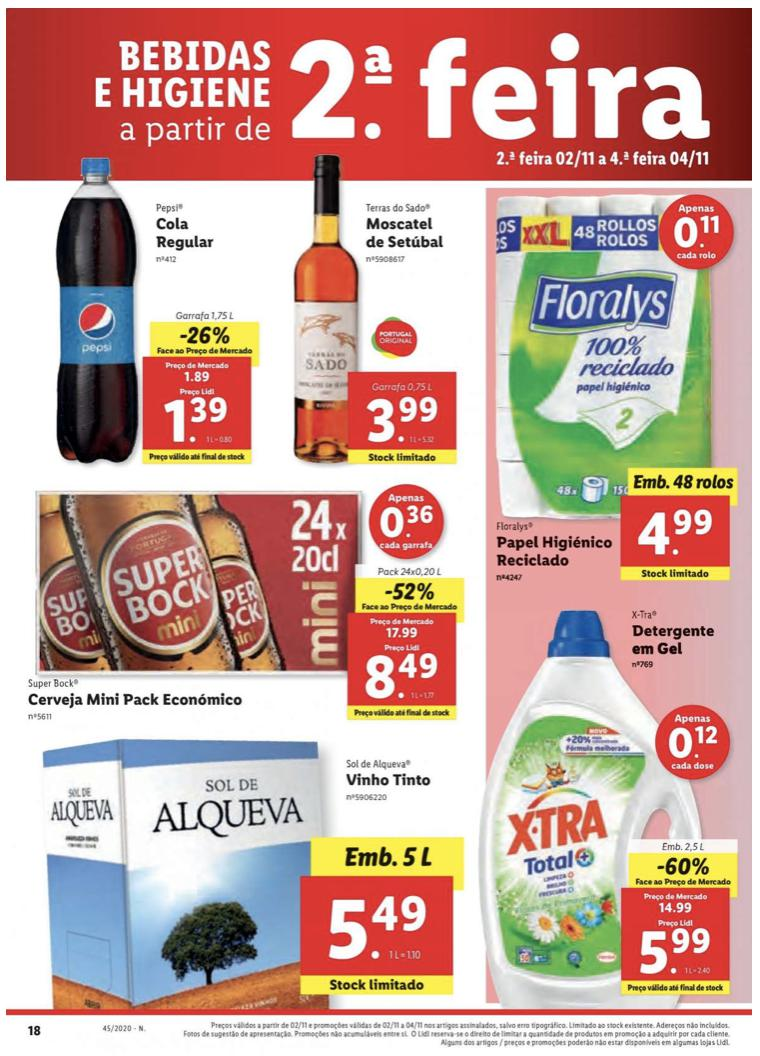name: (493, 534, 618, 570), (23, 690, 248, 708), (360, 213, 452, 253), (628, 621, 718, 657), (155, 215, 218, 252), (344, 770, 436, 788)
price: (323, 891, 427, 962), (361, 648, 445, 704), (636, 920, 718, 975), (359, 392, 444, 445), (634, 503, 713, 559), (163, 392, 236, 444)
product: (14, 734, 476, 995), (13, 479, 469, 727), (488, 600, 749, 1004), (492, 186, 742, 591), (18, 152, 268, 473), (276, 155, 477, 470)
promotion: (381, 579, 438, 604), (653, 857, 715, 879), (176, 323, 232, 345)
